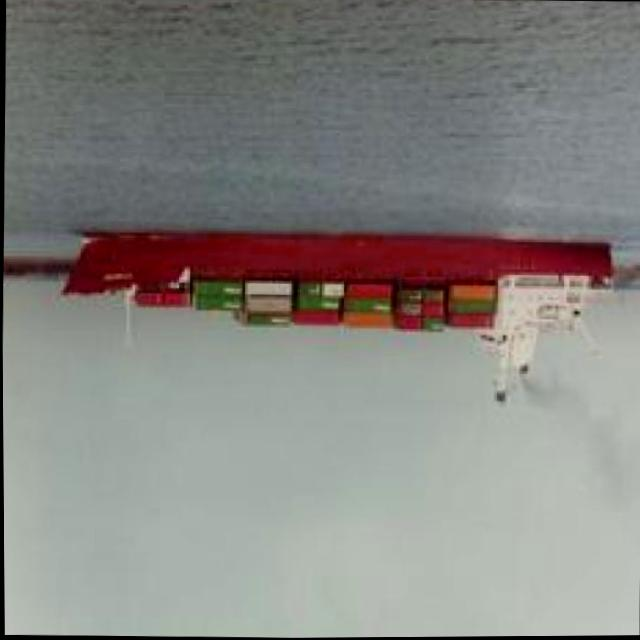ship2: (60, 231, 614, 410)
